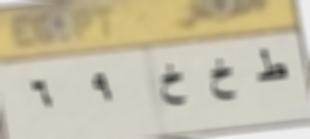6: (28, 75, 56, 115)
9: (88, 70, 115, 108)
Taa: (254, 45, 290, 91)
khaa: (205, 54, 238, 104), (158, 63, 190, 110)
